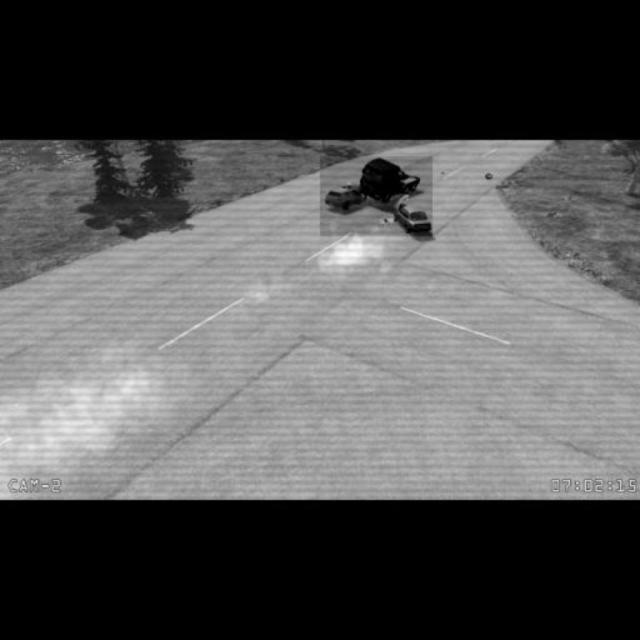accident: (320, 157, 432, 237)
